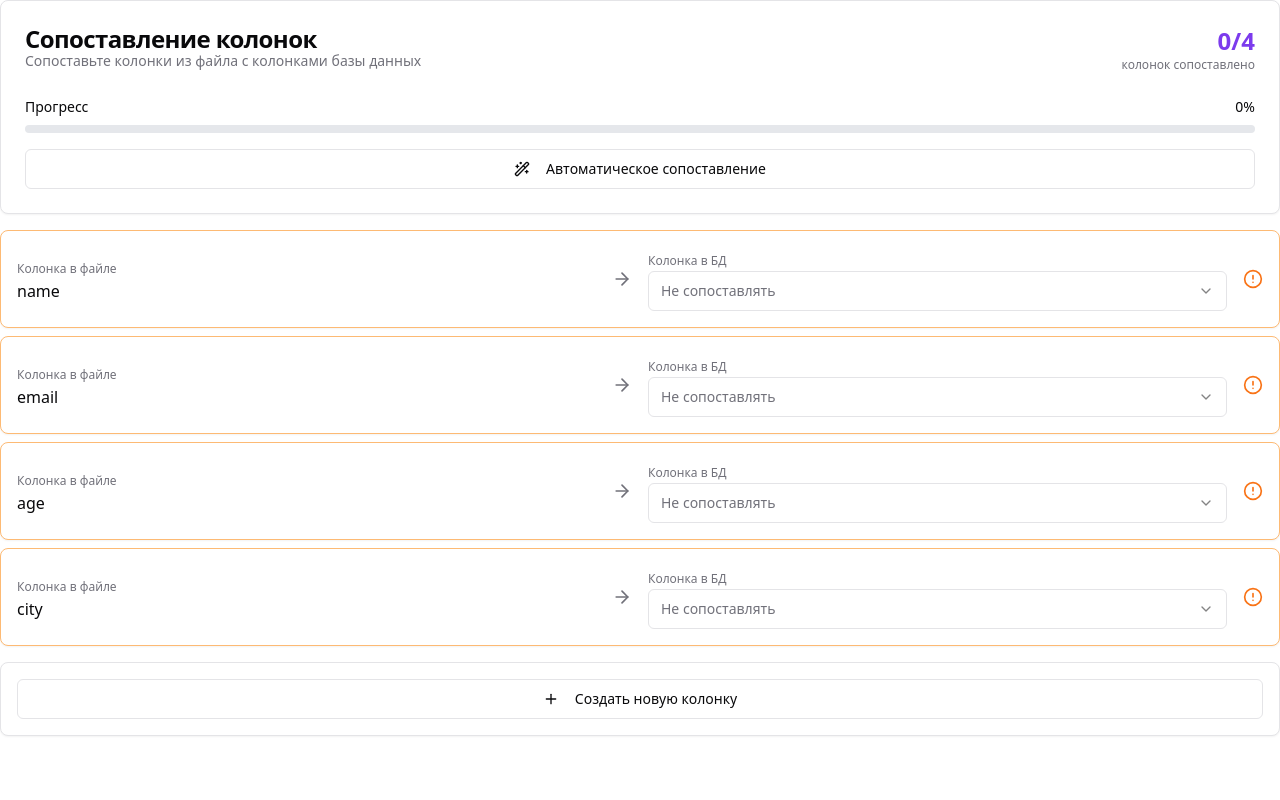
Test: ColumnMapper › Create New Column › should show form when create column button is clicked
Step 1. Click the button "Создать новую колонку" → (640, 699), box [17, 679, 1263, 719]
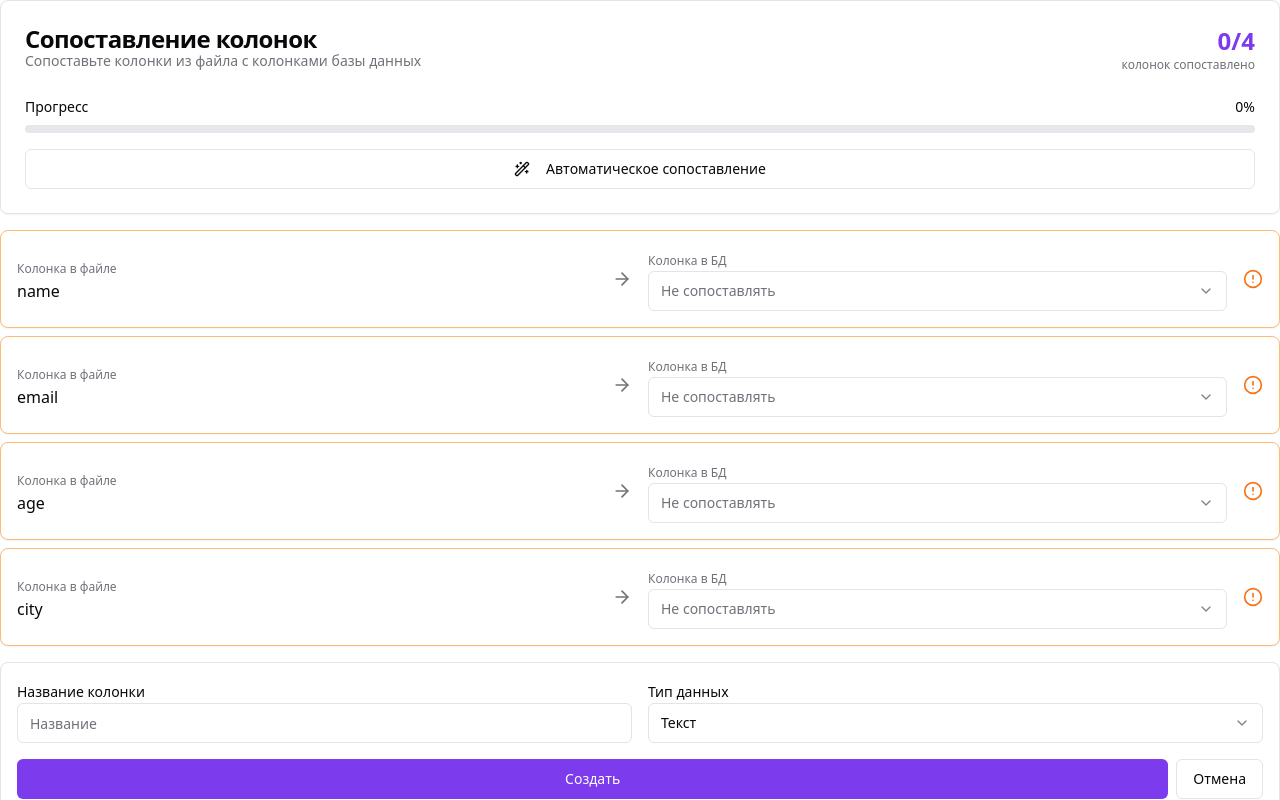
Check: the field with placeholder "Название" is shown, box [17, 703, 632, 743]
